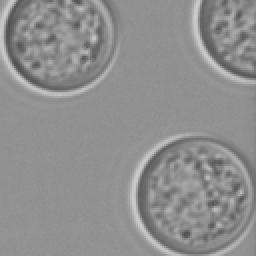picoshell: (128, 132, 254, 254), (0, 0, 120, 96), (190, 0, 254, 84)
